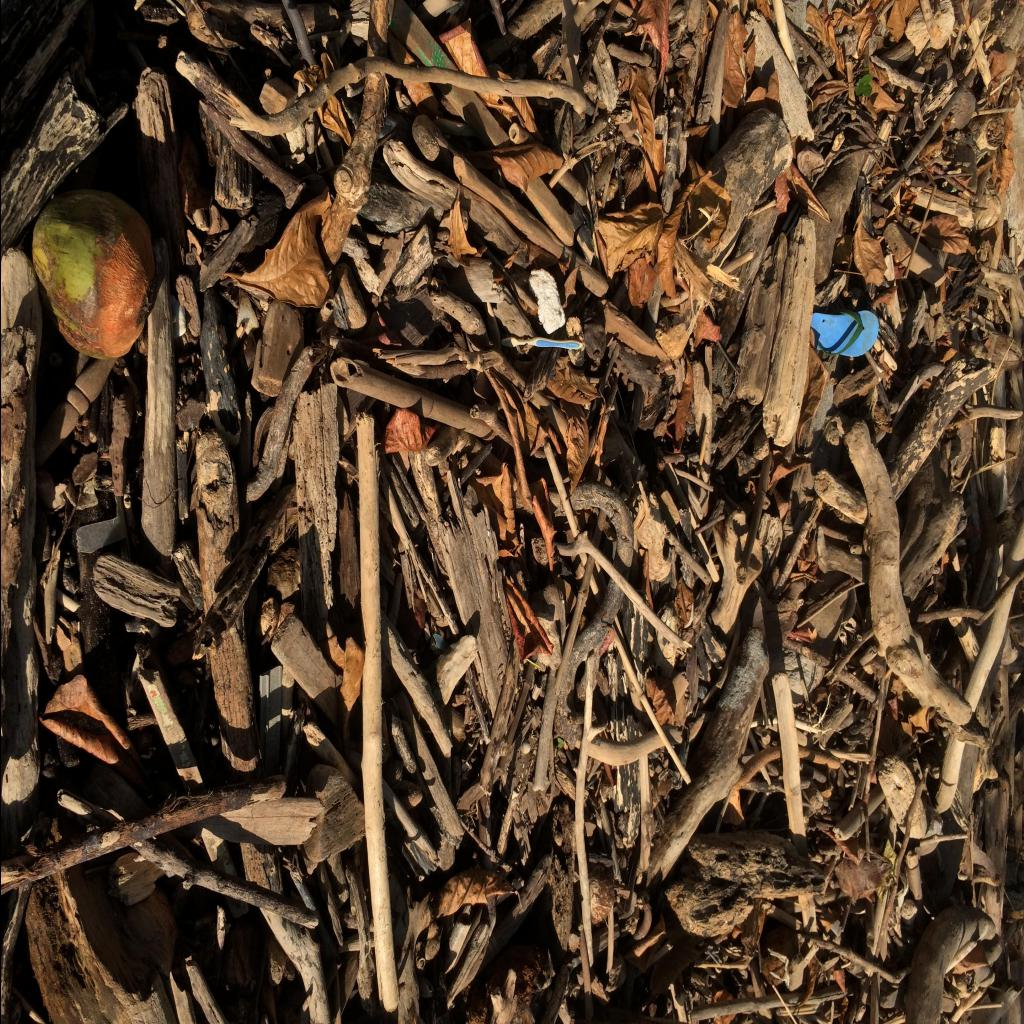Other plastic wrapper: (810, 309, 878, 357), (500, 337, 582, 349)
Styrofoam piece: (528, 269, 564, 334)
